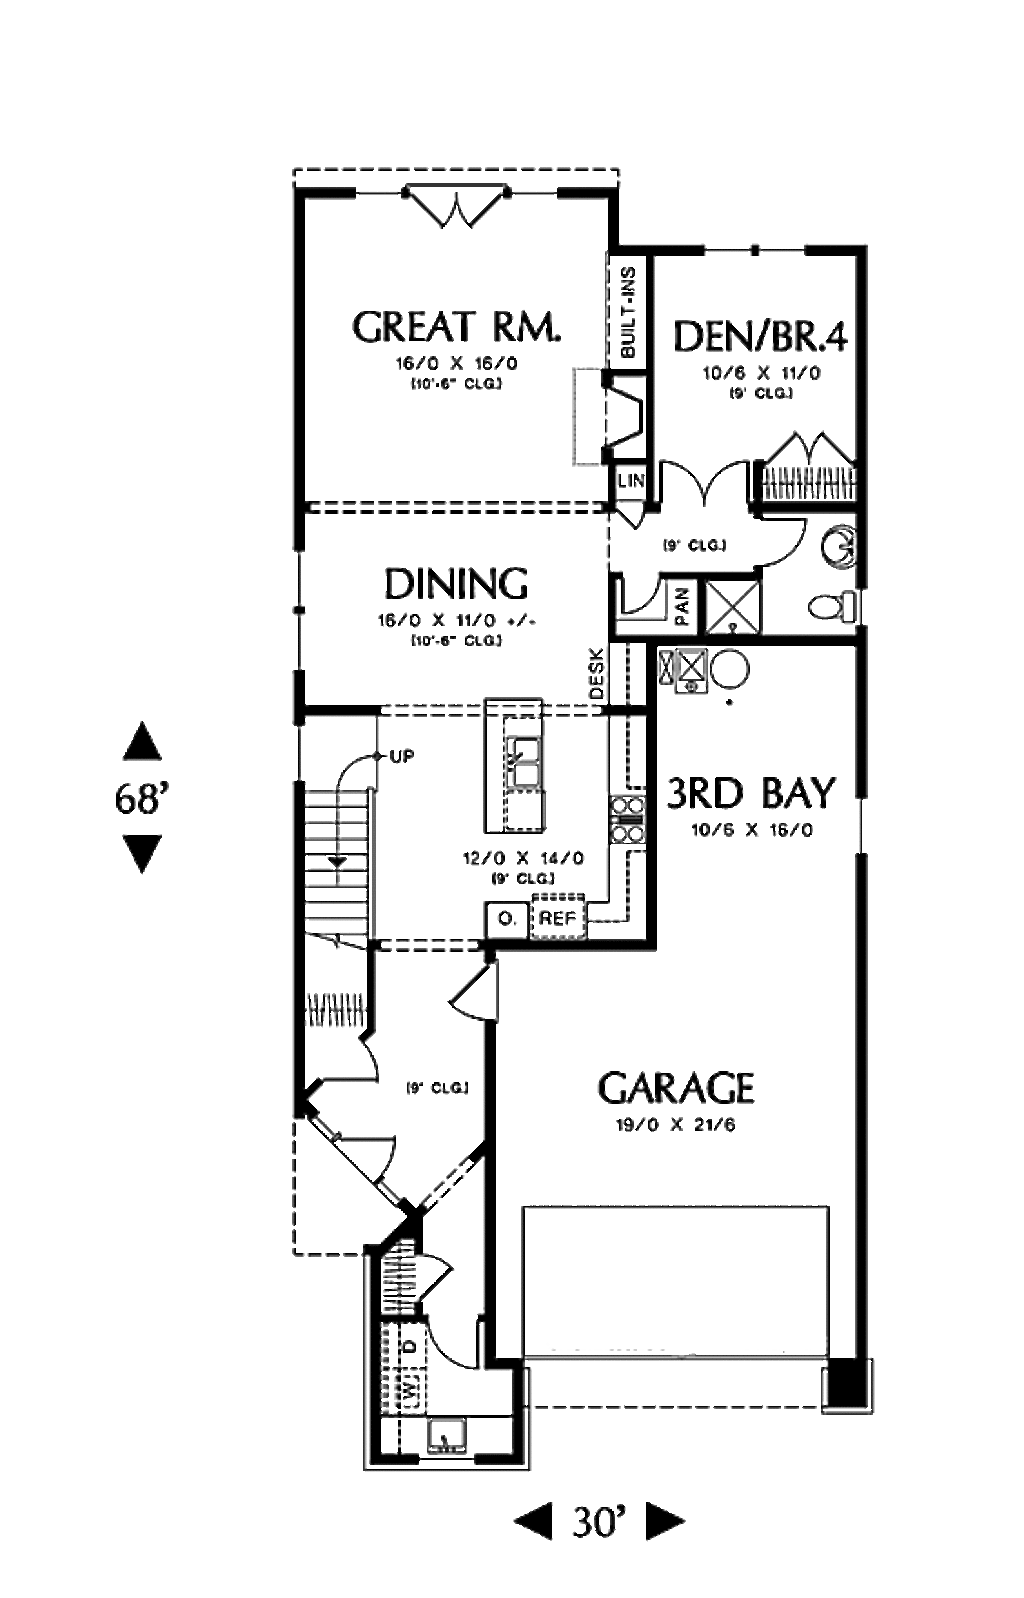door: (651, 434, 761, 505), (313, 1023, 403, 1099), (414, 1304, 503, 1376), (443, 943, 513, 1023), (326, 1130, 411, 1193), (761, 418, 863, 468), (398, 178, 506, 225), (746, 503, 803, 578), (407, 1243, 462, 1304), (608, 563, 661, 618)
kitchen_bar: (466, 670, 558, 868)
large_sink: (786, 573, 876, 653)
sink: (423, 1410, 506, 1470)
small_sink: (806, 510, 861, 578)
stairs: (296, 708, 377, 1035)
window: (833, 783, 891, 870), (693, 238, 815, 260), (298, 545, 316, 680)
